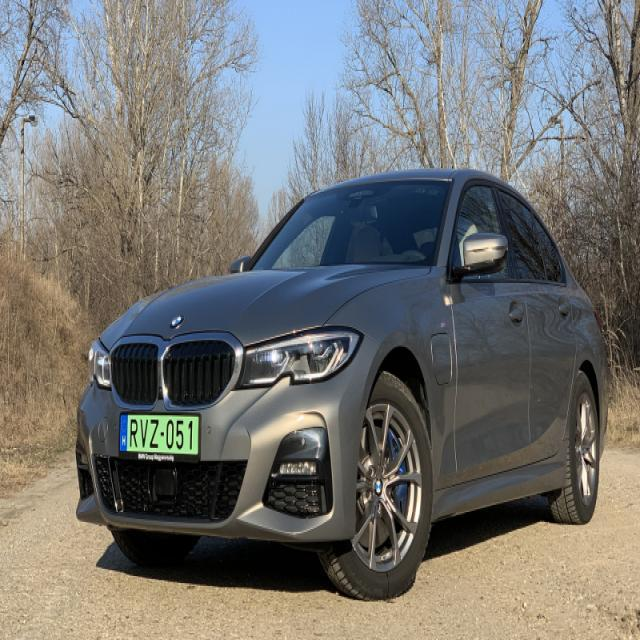licence: (119, 408, 201, 459)
